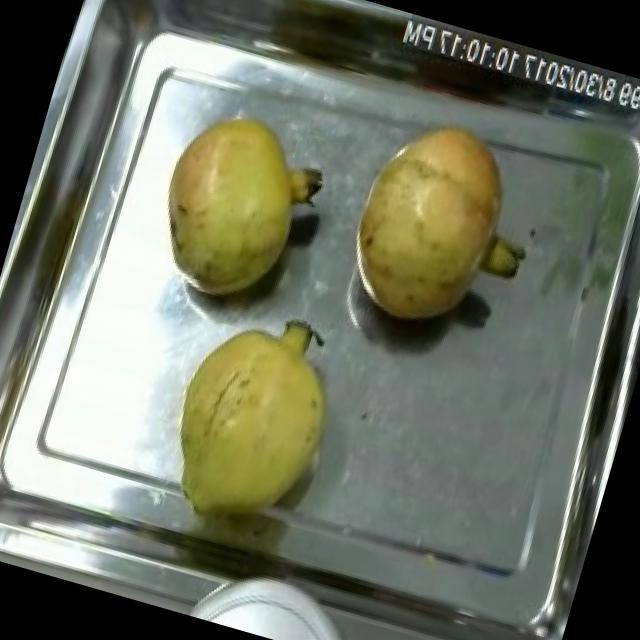fruit: (322, 92, 560, 356), (146, 284, 368, 552), (132, 86, 349, 332)
